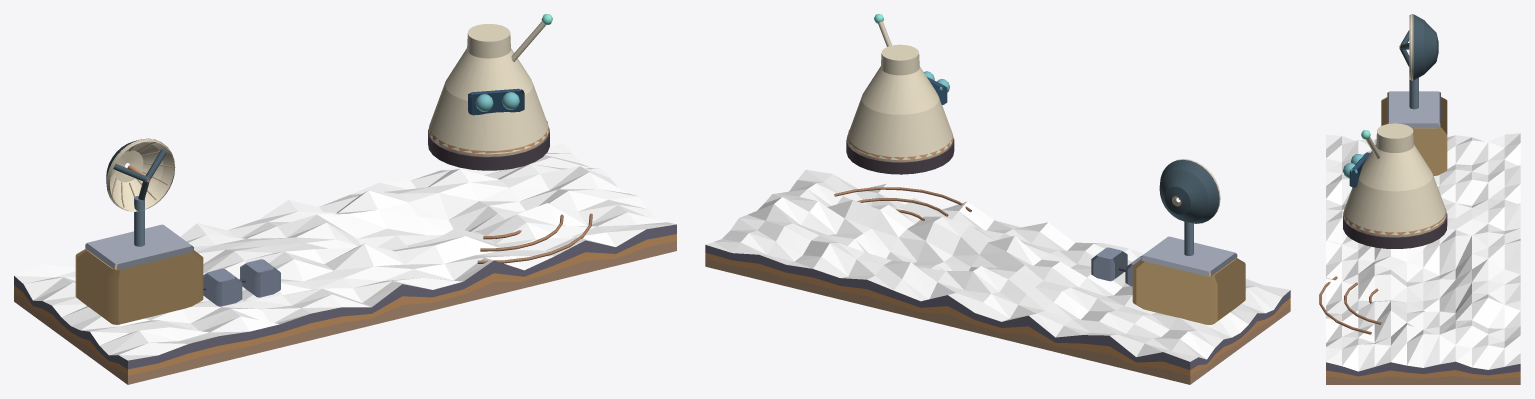
The model's file is apolo-impacto.obj.
3 renders of one model, left to right at view 1: azimuth 30°, elevation 25°; view 2: azimuth 150°, elevation 25°; view 3: azimuth 270°, elevation 25°, orthographic. The views are drawn at different scales.
Visible parts, largest first — view 1: apolo-impacto; view 2: apolo-impacto; view 3: apolo-impacto.
Part boxes in pixels (x1,y1,x2,y2): apolo-impacto: (14,14,676,384); apolo-impacto: (705,14,1290,384); apolo-impacto: (1319,14,1520,384).
Size of the model in its own units: 1.56 by 0.667 by 0.5792.
